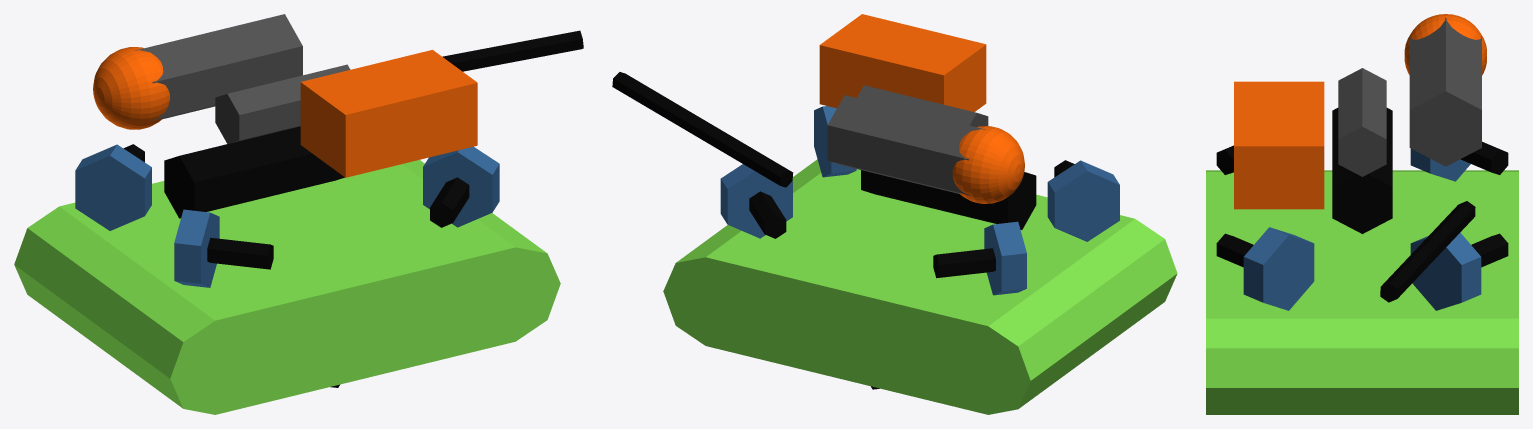
File: seabotix_old.dae
3 renders of one model, left to right at view 1: azimuth 30°, elevation 25°; view 2: azimuth 150°, elevation 25°; view 3: azimuth 270°, elevation 25°, orthographic. The views are drawn at different scales.
Visible parts, largest first — view 1: base_link, rear_bumper, sonar, dvl, seabotix_bottle, front_bumper, sa_fan, dvl_head, greensea, pf_fan, pa_fan, gripper_pole (+2 smaller); view 2: base_link, rear_bumper, sonar, dvl, front_bumper, pa_fan, dvl_head, seabotix_bottle, gripper_pole, sf_fan, sa_fan, greensea (+3 smaller); view 3: front_bumper, base_link, sonar, dvl, greensea, pf_fan, seabotix_bottle, sf_fan, gripper_pole, dvl_head, sa_fan, sa_thruster (+3 smaller).
Part boxes in pixels (box(x1,y1,x2,y2)): base_link: box(59, 164, 515, 414); rear_bumper: box(14, 206, 259, 414); sonar: box(300, 50, 477, 177); dvl: box(135, 14, 302, 120); seabotix_bottle: box(164, 126, 344, 218); front_bumper: box(402, 160, 560, 341); sa_fan: box(75, 144, 151, 230); dvl_head: box(93, 47, 169, 129); greensea: box(215, 64, 350, 143); pf_fan: box(423, 146, 499, 227); pa_fan: box(174, 209, 219, 287); gripper_pole: box(442, 30, 583, 71); base_link: box(705, 169, 1134, 414); rear_bumper: box(946, 219, 1177, 414); sonar: box(819, 14, 986, 111); dvl: box(827, 95, 985, 194); front_bumper: box(663, 159, 820, 345); pa_fan: box(1047, 160, 1119, 241); dvl_head: box(952, 126, 1024, 203); seabotix_bottle: box(861, 170, 1036, 229); gripper_pole: box(612, 72, 793, 187); sf_fan: box(720, 164, 792, 238); sa_fan: box(984, 221, 1026, 295); greensea: box(857, 85, 988, 126); front_bumper: box(1206, 318, 1518, 414); base_link: box(1206, 172, 1518, 318); sonar: box(1234, 81, 1324, 209); dvl: box(1409, 18, 1481, 166); greensea: box(1338, 68, 1386, 176); pf_fan: box(1243, 227, 1314, 310); seabotix_bottle: box(1332, 108, 1392, 233); sf_fan: box(1410, 232, 1481, 310); gripper_pole: box(1380, 201, 1475, 302); dvl_head: box(1404, 14, 1486, 75); sa_fan: box(1410, 148, 1470, 181); sa_thruster: box(1460, 141, 1508, 174).
Bounding box in the file's own units: 0.8408 × 0.45 × 0.43.
